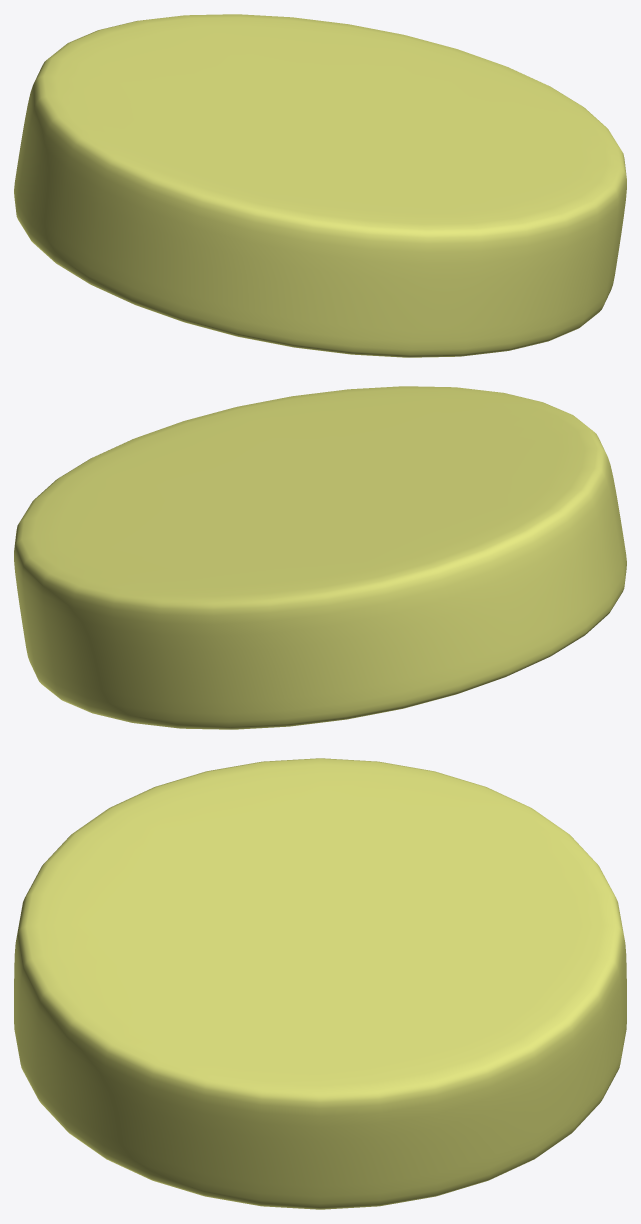
Rendered from Arcade_Cabinet_ButtonA-Bpx4lOuN.glb.
3 views of the same model, one above another, from view 1: azimuth 30°, elevation 25°; view 2: azimuth 150°, elevation 25°; view 3: azimuth 270°, elevation 25° (orthographic).
Visible parts, largest first — view 1: ButtonA; view 2: ButtonA; view 3: ButtonA.
Part boxes in pixels (x1=…): ButtonA: x1=14, y1=14, x2=626, y2=357; ButtonA: x1=14, y1=386, x2=626, y2=729; ButtonA: x1=14, y1=758, x2=626, y2=1209.
Size of the model in its own units: 0.1926 by 0.0729 by 0.1903.
